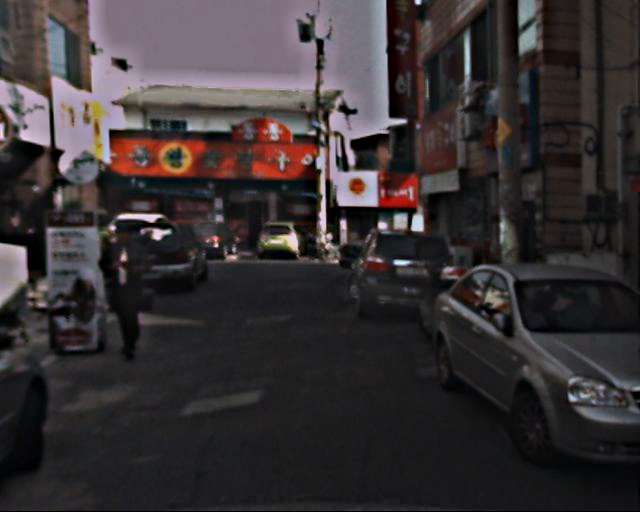person: (100, 224, 159, 359)
